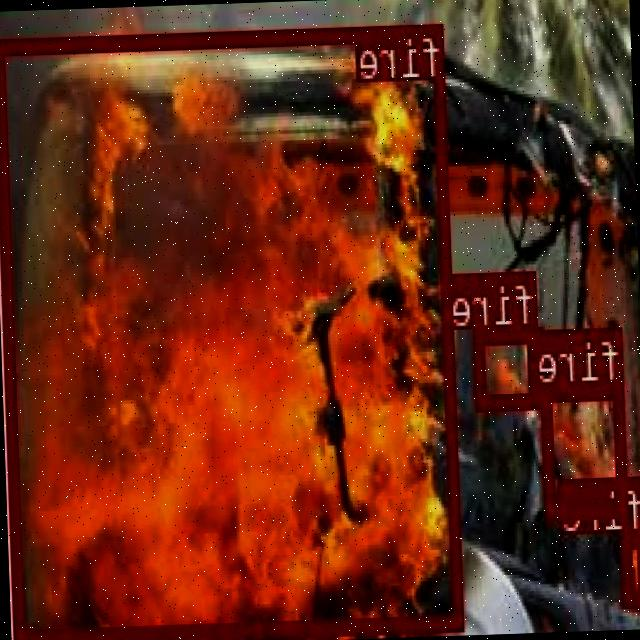fire: (0, 21, 464, 640), (542, 380, 629, 516), (474, 324, 540, 405), (624, 527, 640, 601)
